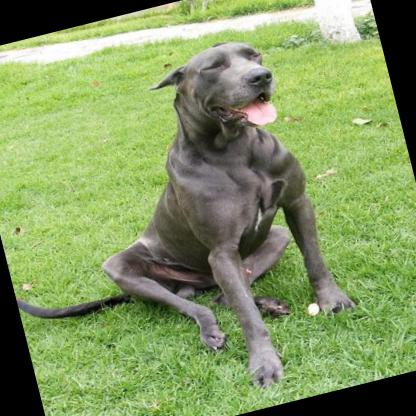Great_Dane: (0, 24, 362, 416)
